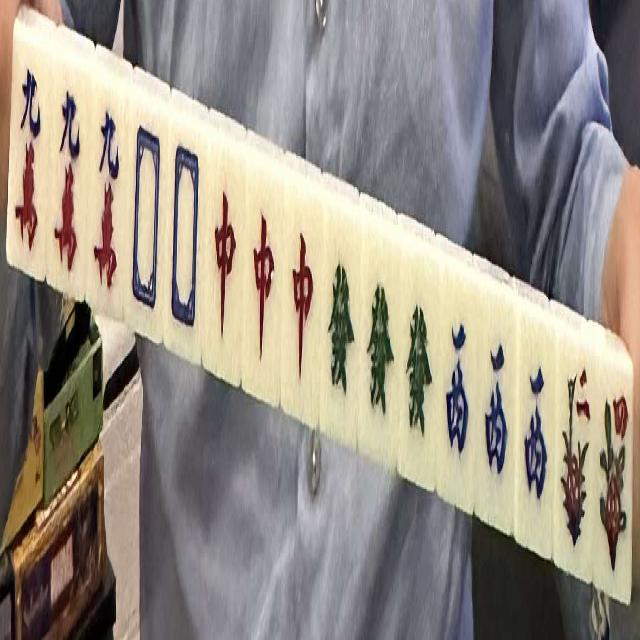2S: (556, 344, 593, 566)
4S: (598, 366, 633, 586)
9C: (91, 85, 128, 315), (51, 61, 87, 295), (9, 48, 46, 270)
GD: (361, 237, 397, 450), (324, 219, 360, 427), (403, 256, 437, 476)
RD: (282, 192, 322, 404), (206, 150, 242, 364), (247, 165, 281, 380)
WD: (127, 94, 166, 334), (169, 122, 206, 349)
WW: (438, 274, 472, 498), (521, 326, 555, 546), (481, 295, 514, 516)
